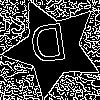D: (27, 22, 70, 73)
